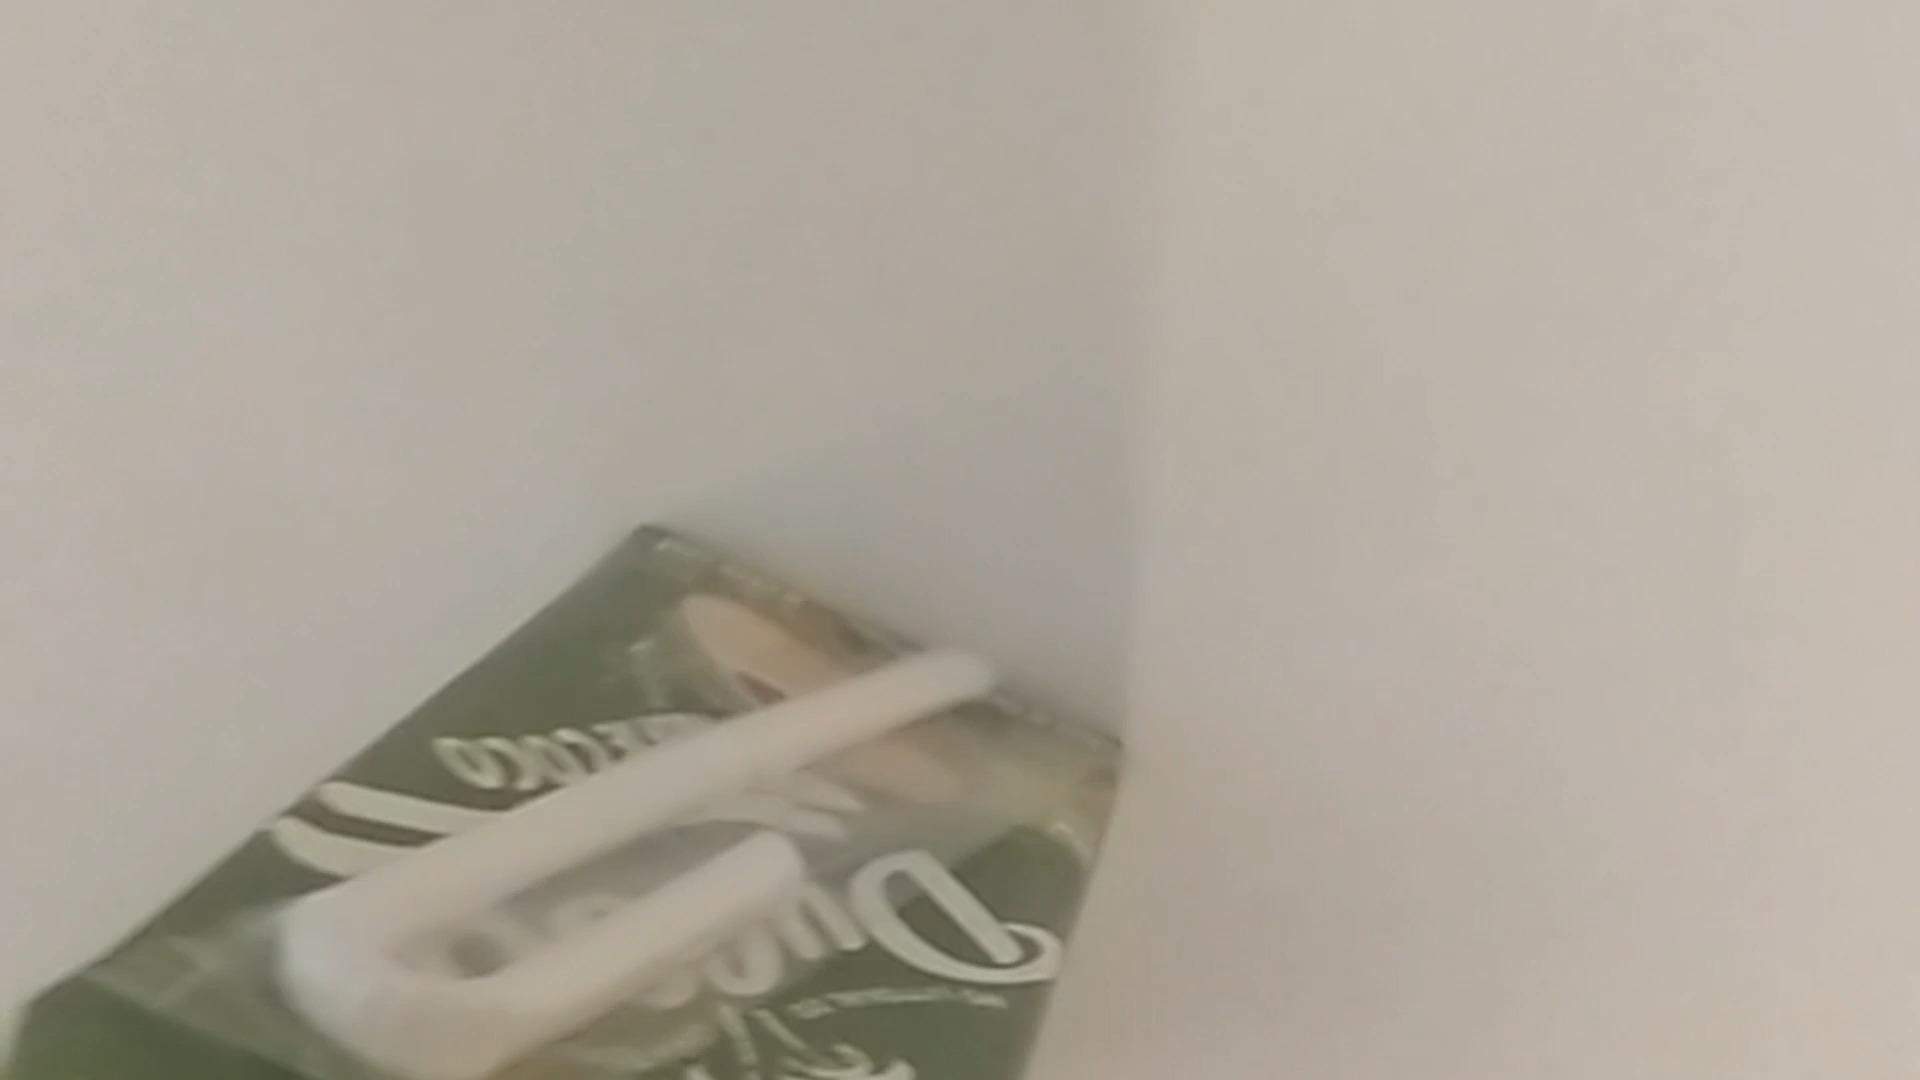coco: (3, 526, 1105, 1079)
